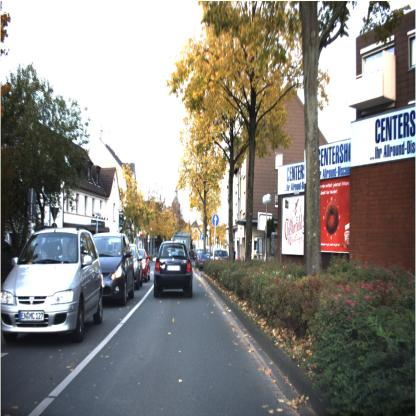go straight: (212, 213, 219, 227)
